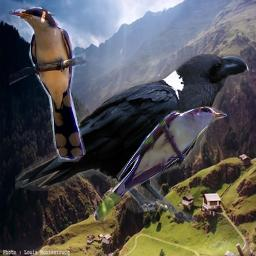Crow: (15, 54, 251, 224)
Cuckoo: (94, 106, 227, 221), (9, 7, 86, 162)
